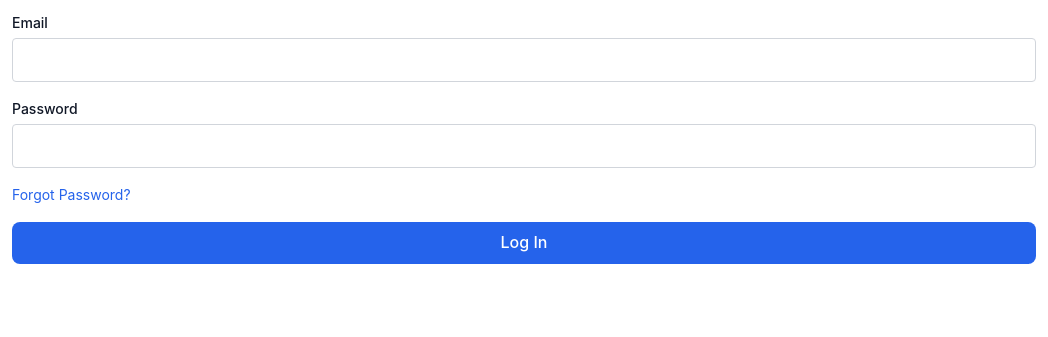
it: <LoginForm /> › when the server answers with a 429 over the real request path › should render the retry-after wait as a countdown and disable submit
Step 1. Type "traveler@example.com" into the field labelled "Email" → x=524, y=60, box [12,38,1036,82]
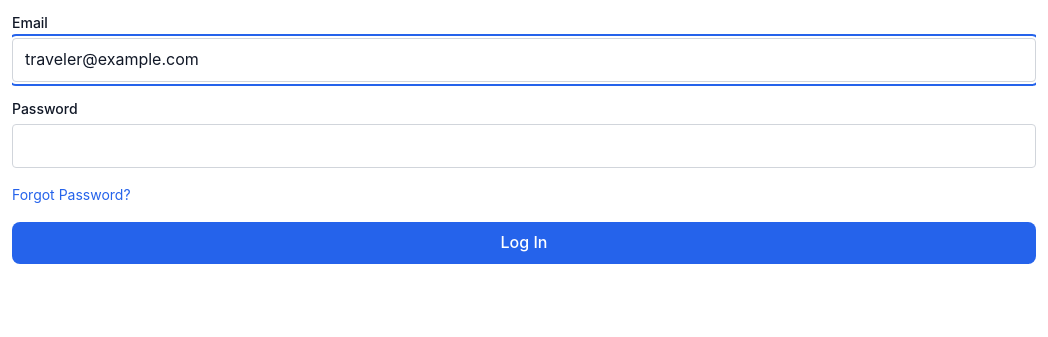
Step 2. Type "CorrectHorse1!" into the password field labelled "Password" → x=524, y=146, box [12,124,1036,168]
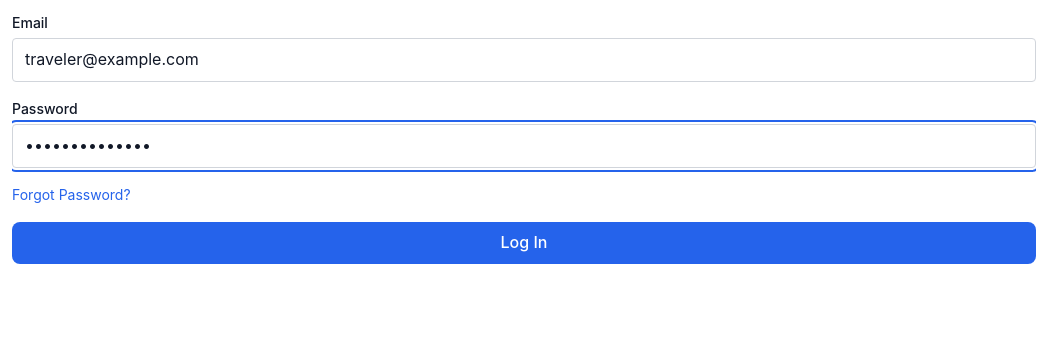
Step 3. Click the button "Log In" → x=524, y=243, box [12,222,1036,264]
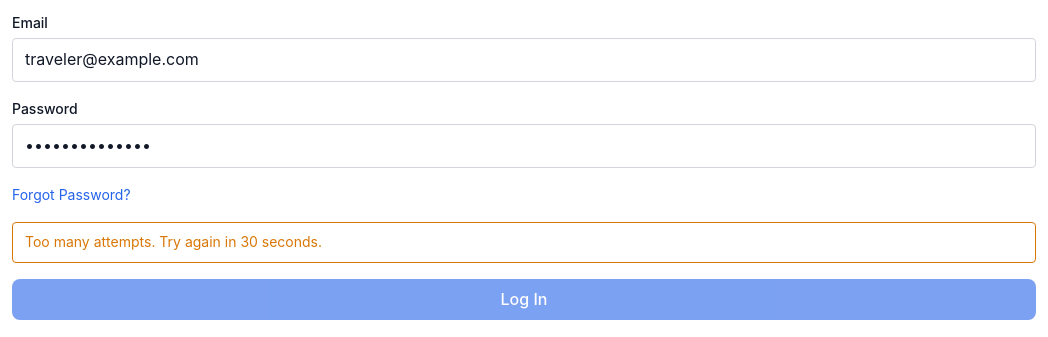
Now the text "Too many attempts. Try again in 30 seconds." is shown, box [12,222,1036,263]
Now the button "Log In" is disabled, box [12,279,1036,320]
